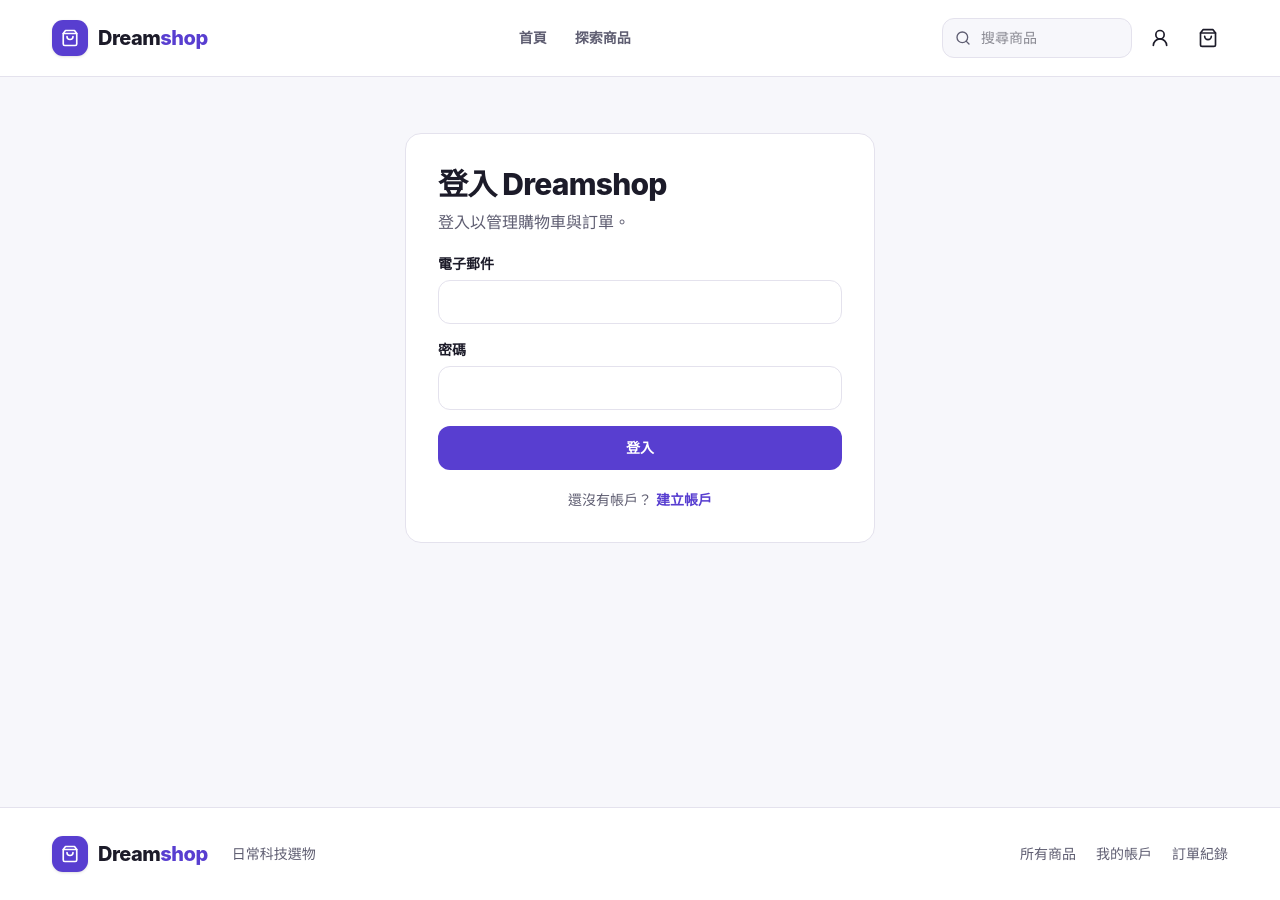
Dreamshop › shows invalid credentials and does not create an authenticated session
In the field labelled "電子郵件": (640, 302) [438,280,842,324], type "fixture@example.com"
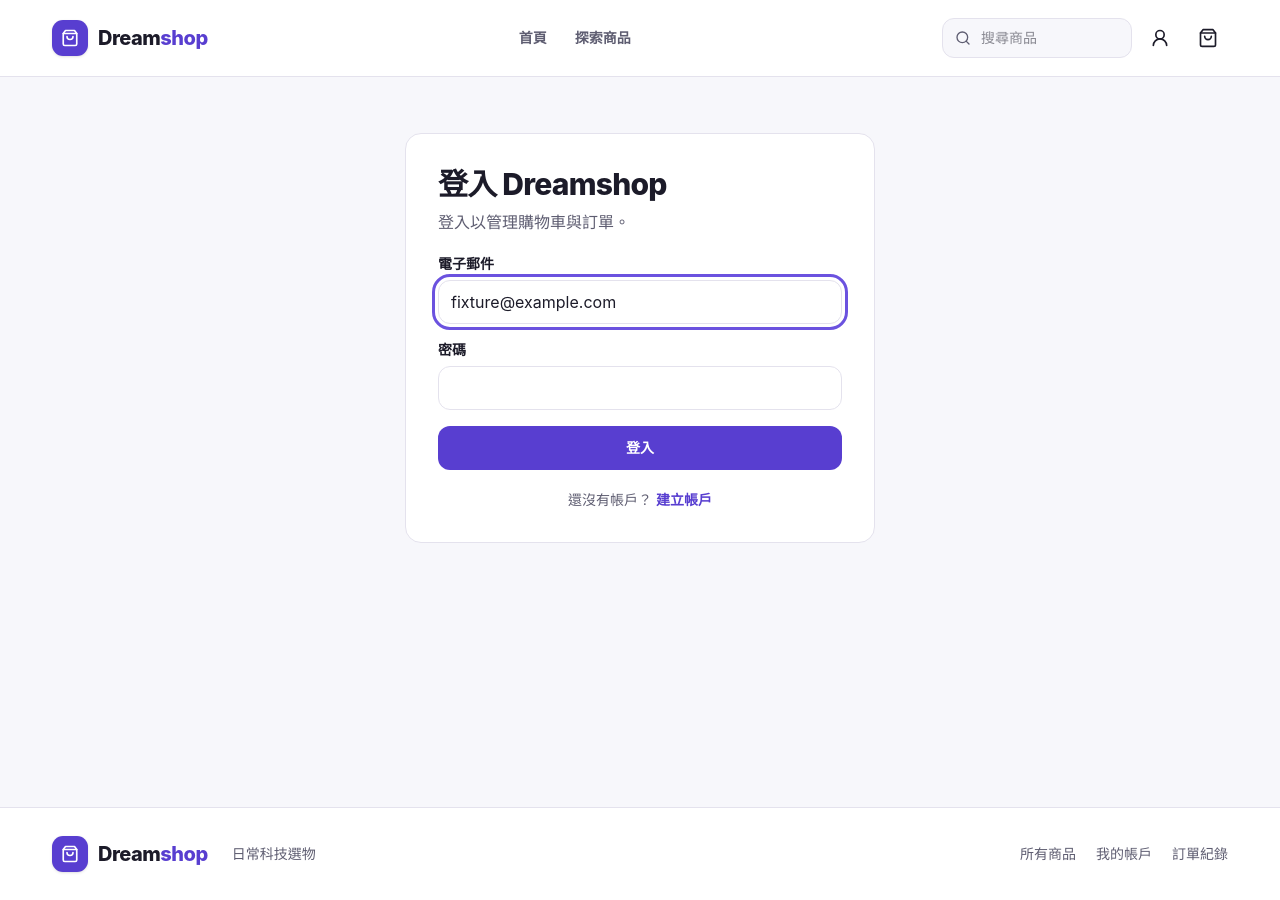
In the password field labelled "密碼": (640, 388) [438,366,842,410], type "incorrect"
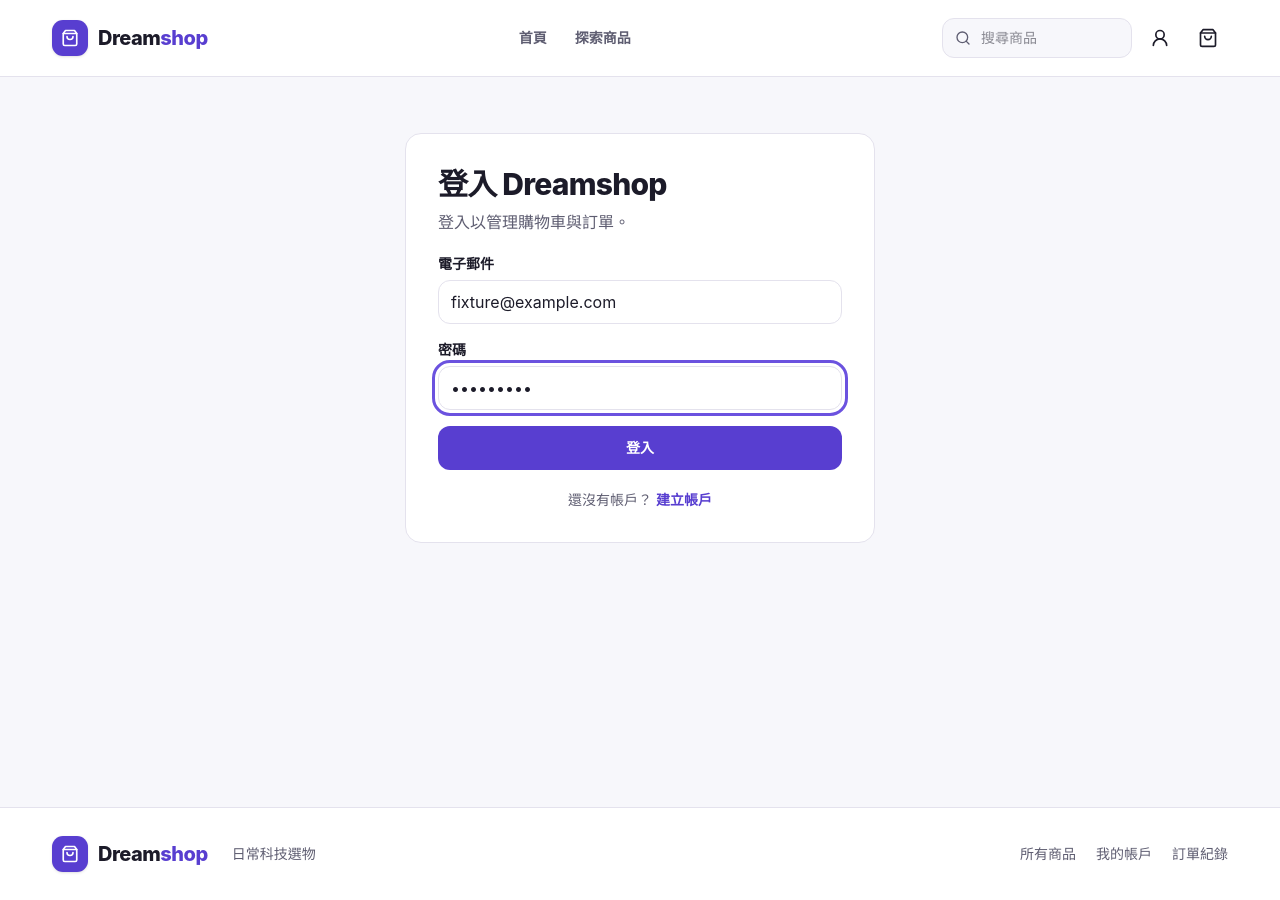
Click the button "登入": (640, 448) [438,426,842,470]
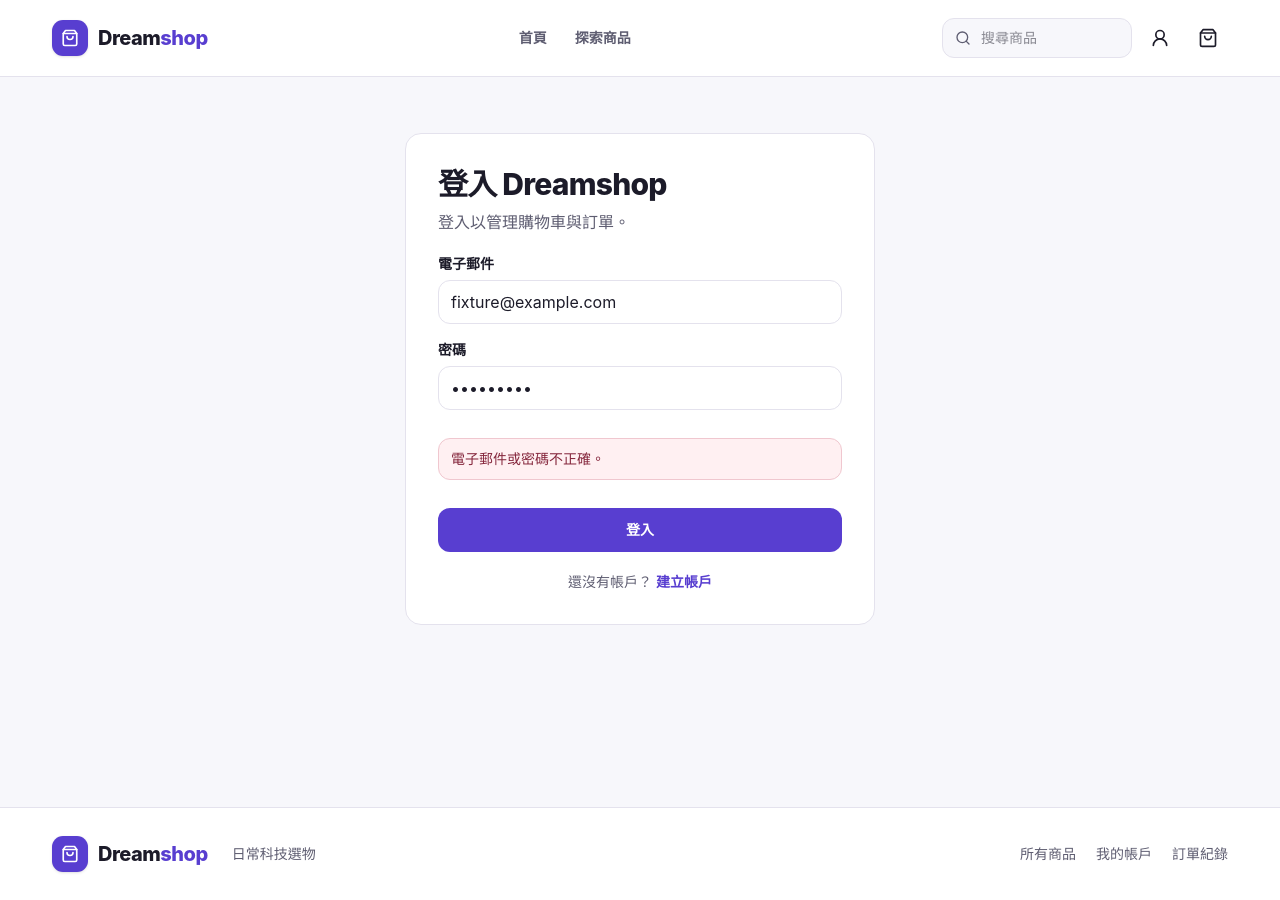
Expected: the message shows "電子郵件或密碼不正確", [451,450,605,467]
